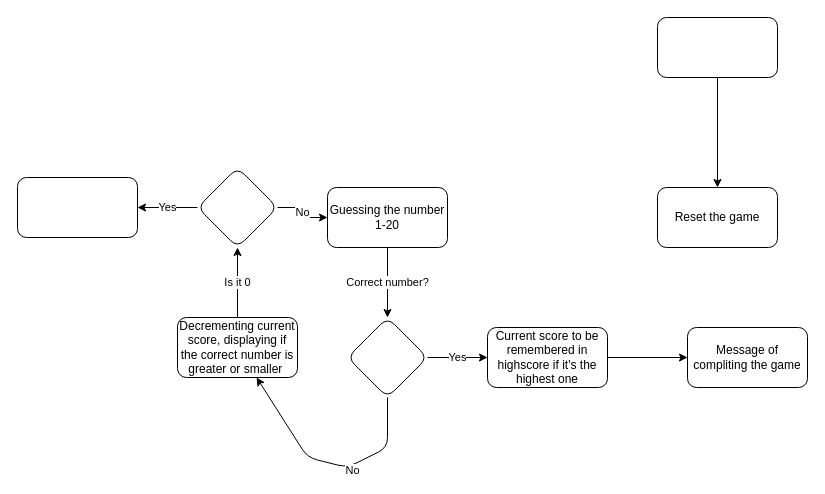
Image size: 825x494. Some labels were removed from this diagram. The centre of each missing label's shape, as x and y in pixels:
"Game over, display message accordingly" belongs at (x=77, y=207).
"Pressing again button" belongs at (x=717, y=47).
